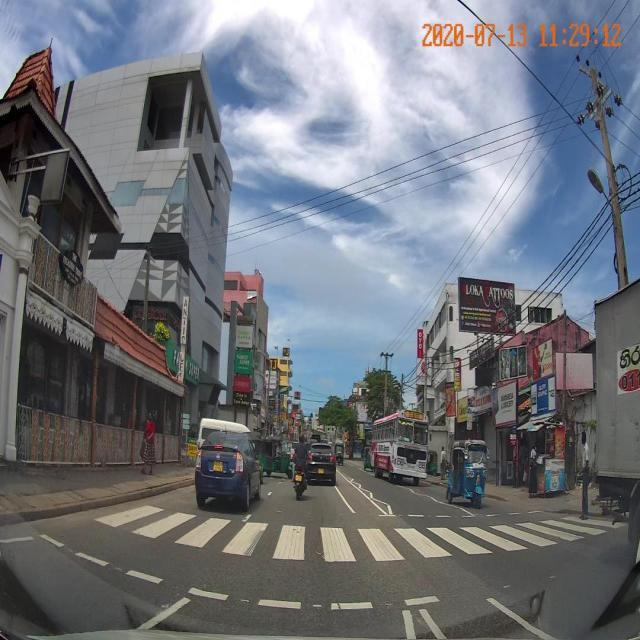Liniya 1: (485, 597, 560, 640), (134, 596, 192, 630), (345, 477, 390, 515), (334, 486, 356, 513), (0, 536, 33, 543), (371, 497, 390, 506), (460, 507, 474, 515), (241, 513, 253, 522), (387, 504, 393, 514), (370, 492, 374, 497)
Perehod: (89, 504, 626, 564)
